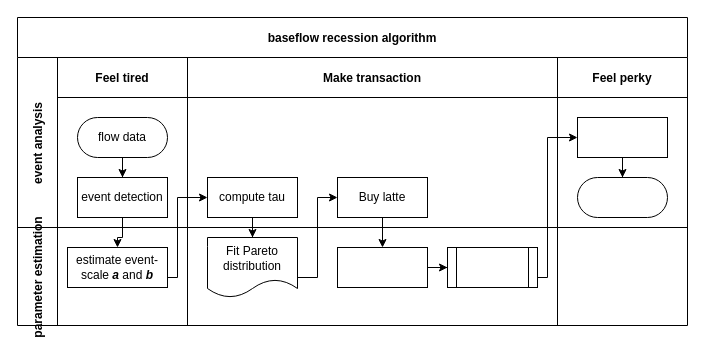
Image size: 705x355. Some labels were removed from this diagram. The shapes that lost their labels are listed below. From the top down, each one's centre as x and y in pixels, then its label:
At (x=622, y=137): "Drink latte".
At (x=622, y=197): "End".
At (x=382, y=267): "Accept payment".
At (x=492, y=267): "Make latte".
